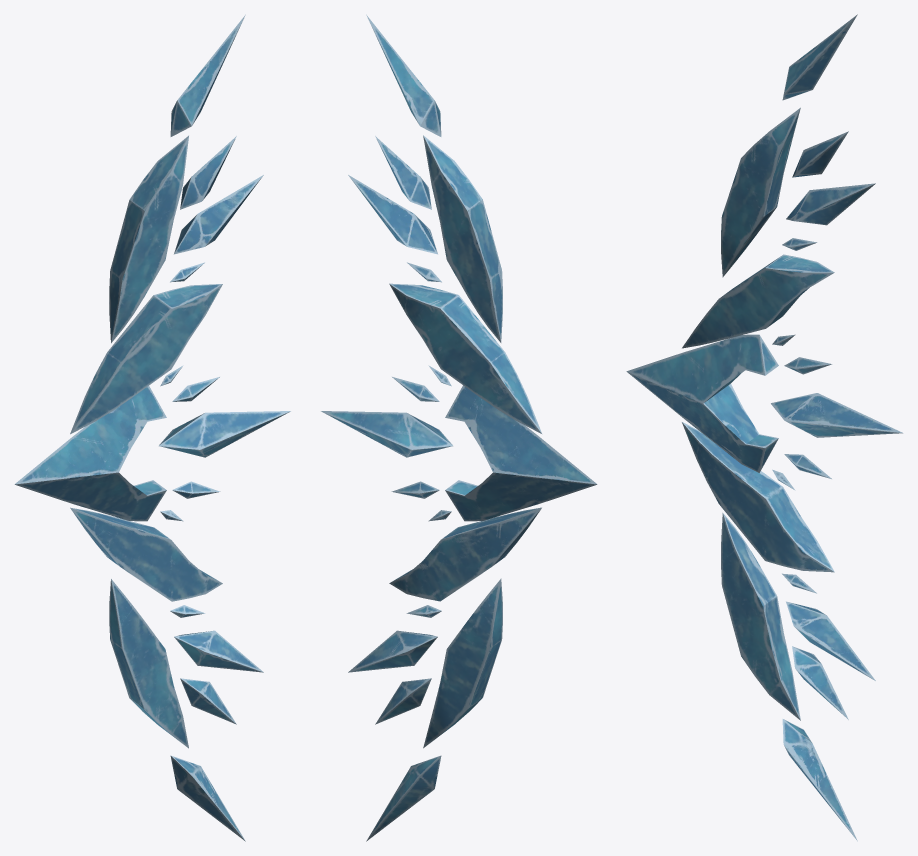
Rendered from slashpurple.glb.
The picture shows the model from 3 angles, left to right: view 1: azimuth 30°, elevation 25°; view 2: azimuth 150°, elevation 25°; view 3: azimuth 330°, elevation 25°; orthographic projection.
Parts seen in each view (by area): view 1: Ice_Bow_Material.001_0; view 2: Ice_Bow_Material.001_0; view 3: Ice_Bow_Material.001_0.
Boxes of the visible parts, x1,y1,x2,y2 form: Ice_Bow_Material.001_0: (14,14,290,841); Ice_Bow_Material.001_0: (321,14,597,841); Ice_Bow_Material.001_0: (626,14,903,841).
Size of the model in its own units: 1.32 by 3.76 by 0.2274.
1 material, 1 textured.
